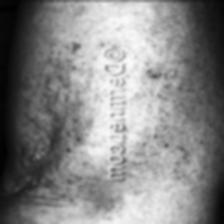Non-Cancerous Skin Condition: (40, 37, 180, 212)
